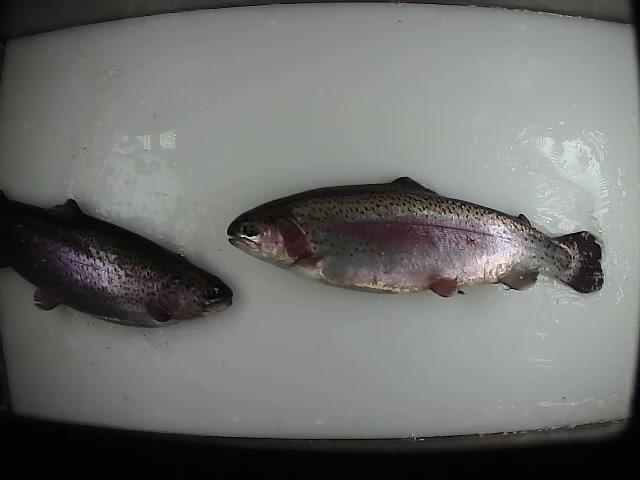fish: (226, 175, 607, 299), (1, 190, 235, 330)
